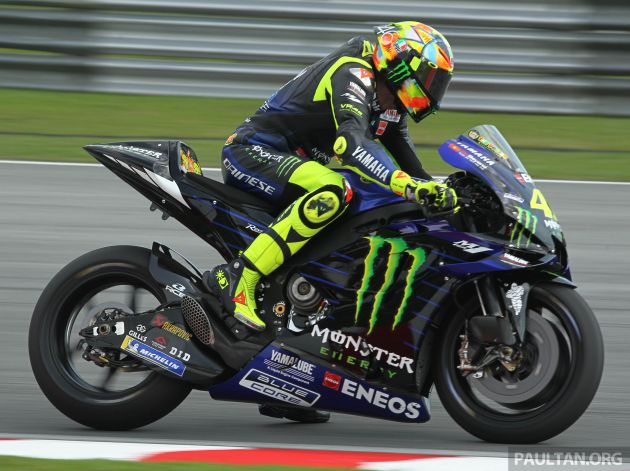helmet: (371, 9, 456, 125)
